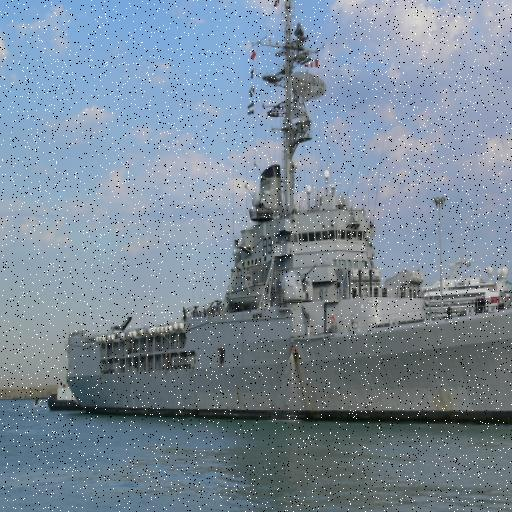Portanaves: (64, 1, 512, 433)
